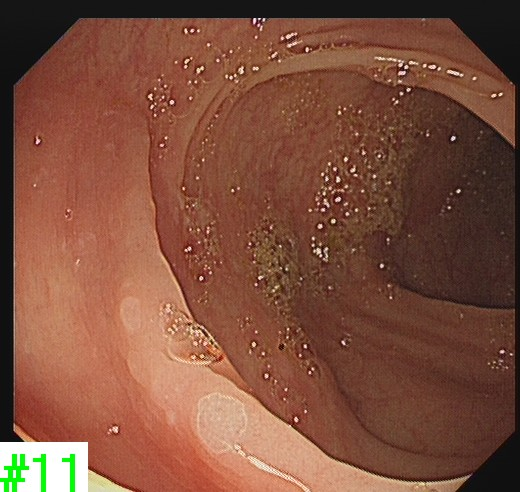others: (193, 391, 250, 457)
